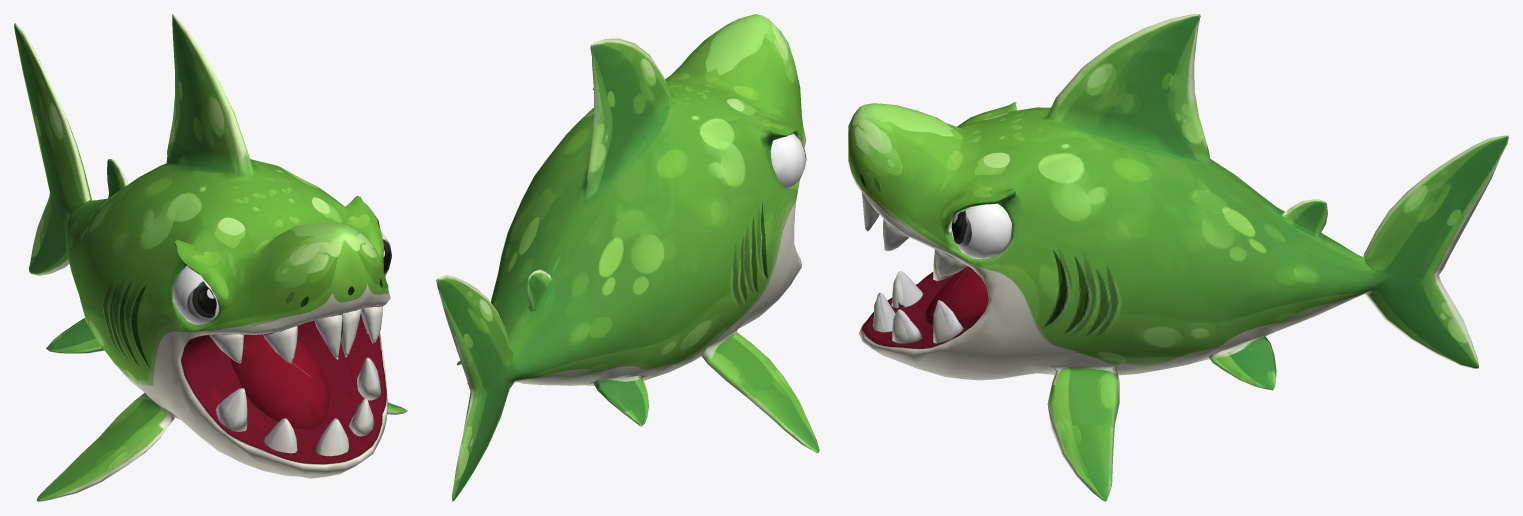
File: Shark.glb
3 renders of one model, left to right at view 1: azimuth 30°, elevation 25°; view 2: azimuth 150°, elevation 25°; view 3: azimuth 270°, elevation 25°, orthographic. The views are drawn at different scales.
Bounding box in the file's own units: 0.6328 × 0.668 × 1.
1 material, 1 textured.
